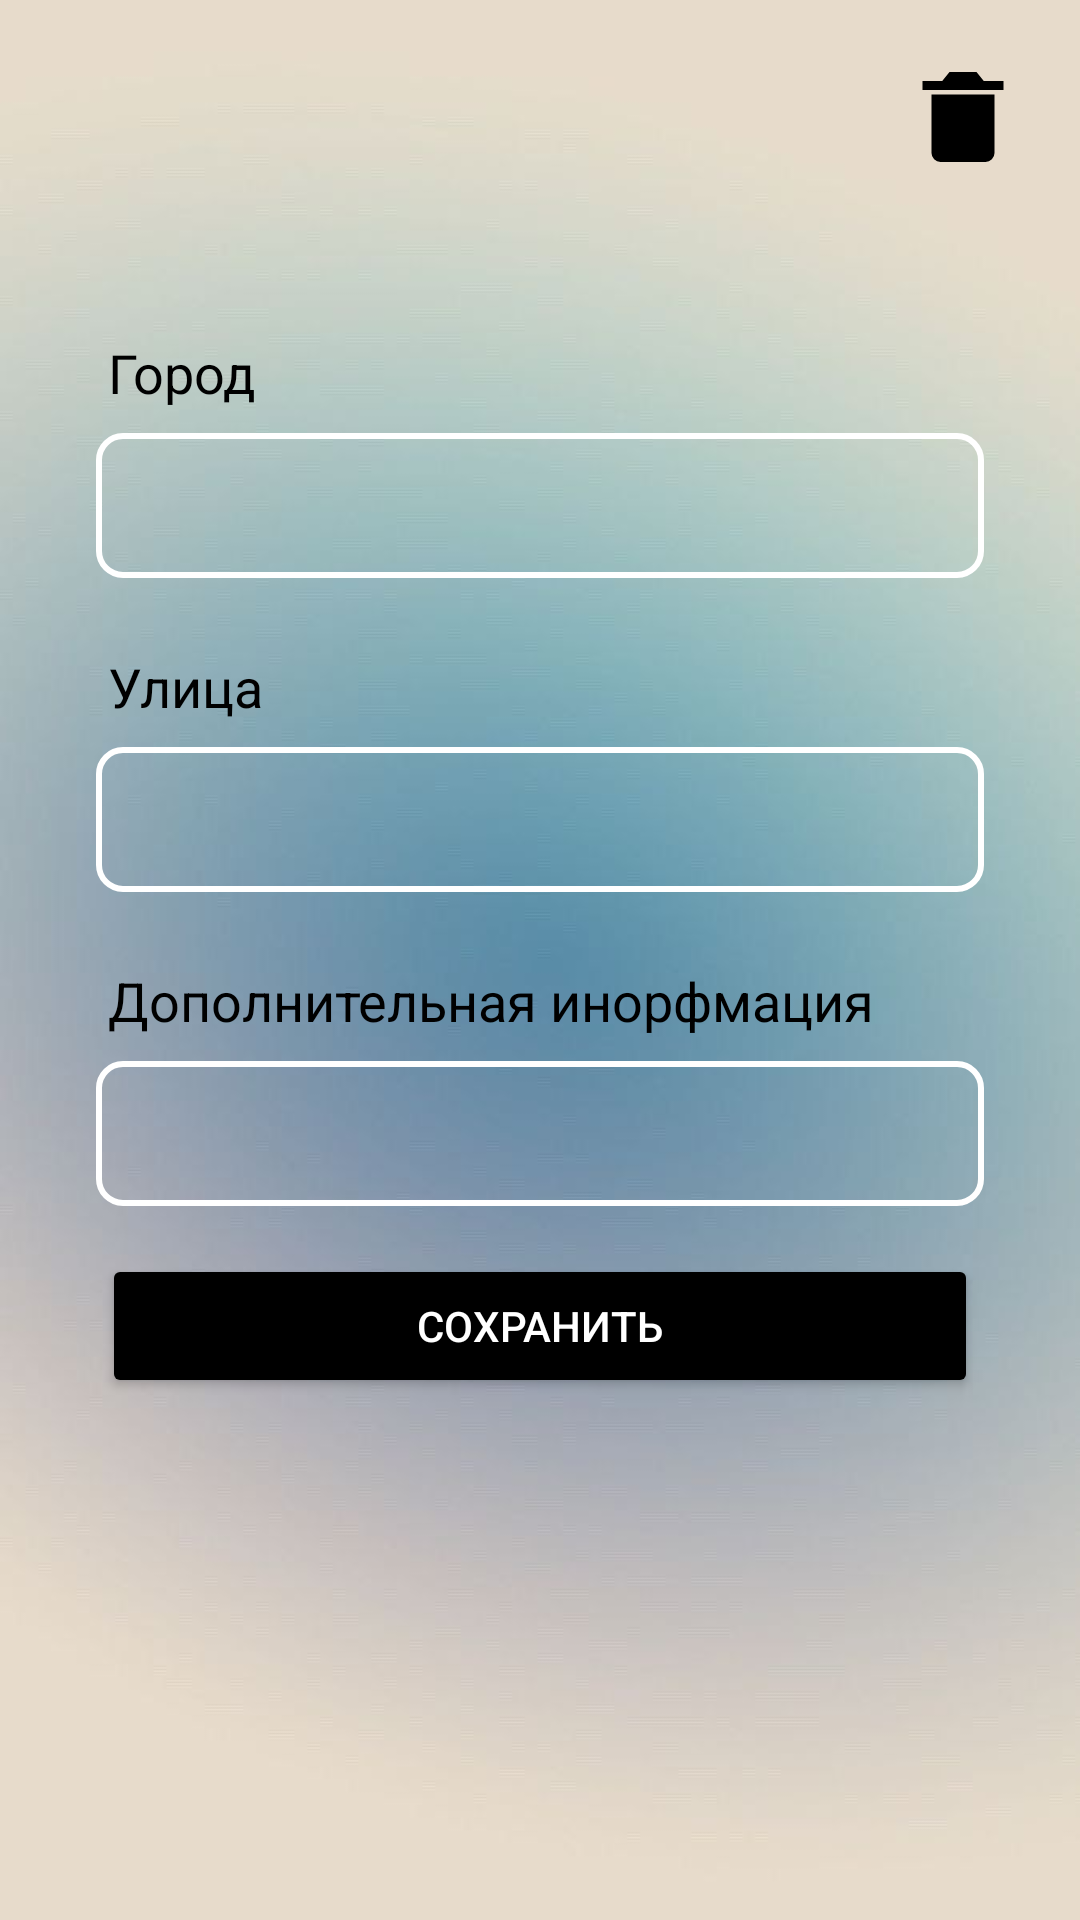

Named icons in this screenshot (1080 x 1920) and their centers, point (x, y):
delete button: point (963, 117)
